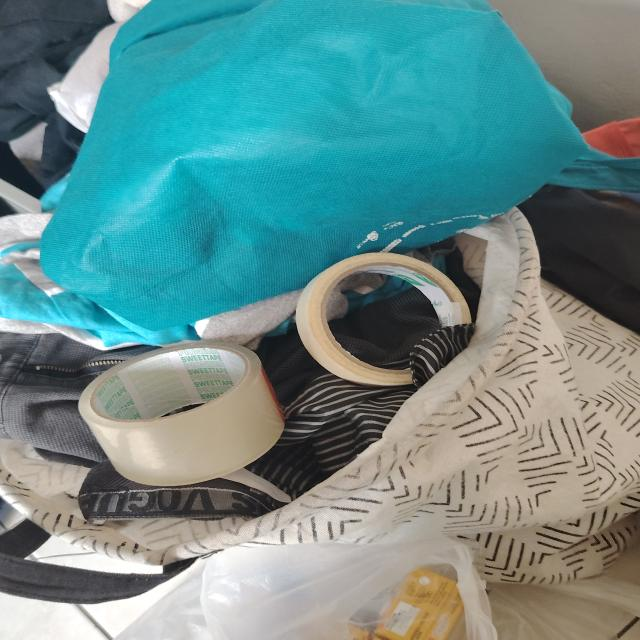tape: (79, 341, 284, 486), (297, 253, 471, 386)
